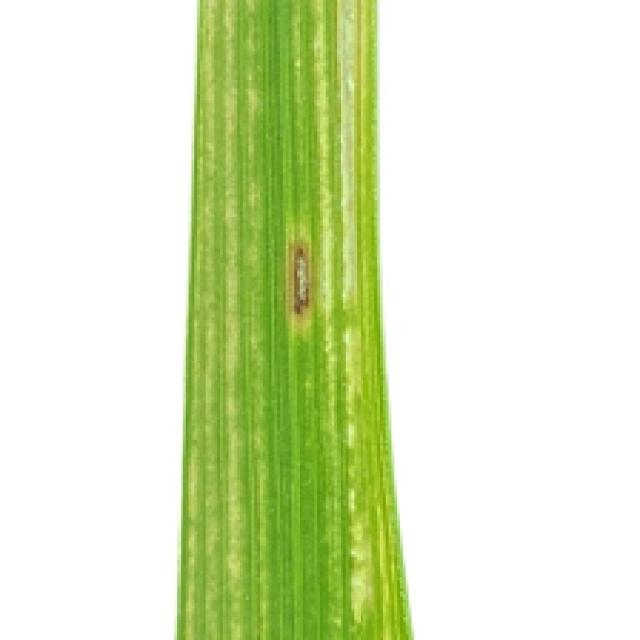Rice___Rice_Blast: (176, 0, 418, 637)
